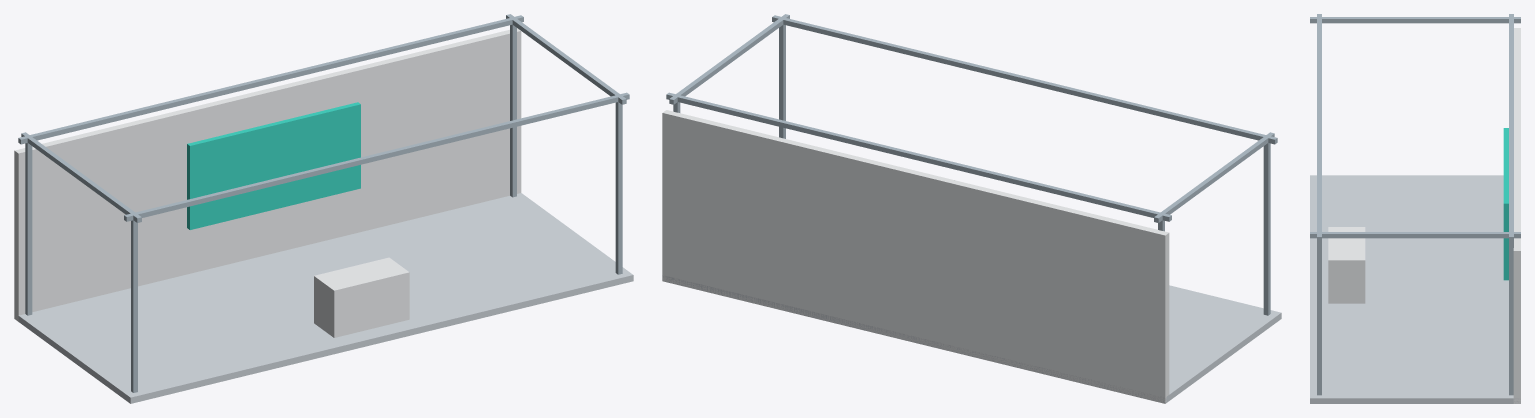
3 renders of one model, left to right at view 1: azimuth 30°, elevation 25°; view 2: azimuth 150°, elevation 25°; view 3: azimuth 270°, elevation 25°, orthographic. The views are drawn at different scales.
Visible parts, largest first — view 1: Exhibition Booth Concept; view 2: Exhibition Booth Concept; view 3: Exhibition Booth Concept.
Boxes of the visible parts, bbox=[...] form: Exhibition Booth Concept: bbox=[14, 14, 633, 403]; Exhibition Booth Concept: bbox=[662, 14, 1281, 403]; Exhibition Booth Concept: bbox=[1310, 14, 1520, 403].
Bounding box in the file's own units: 10 × 3.49 × 4.
